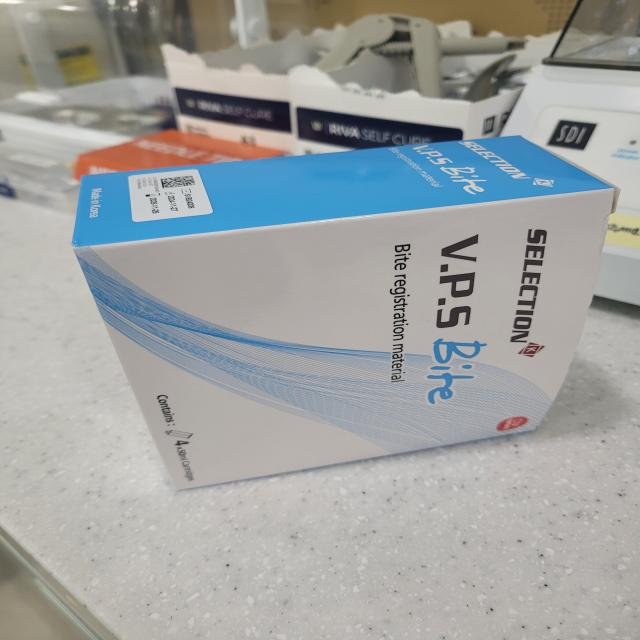impression: (57, 131, 640, 506)
